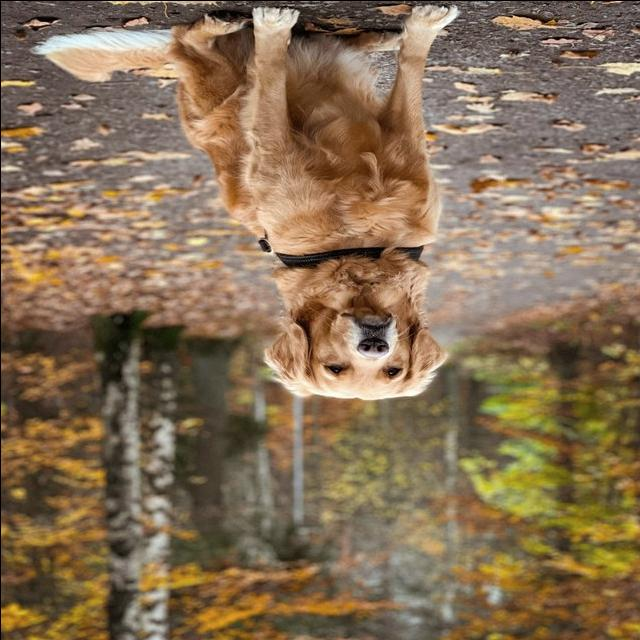retriever: (30, 3, 460, 402)
